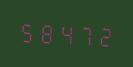eight: (37, 18, 55, 46)
five: (18, 17, 36, 45)
four: (56, 19, 74, 47)
seven: (75, 20, 93, 48)
two: (94, 21, 112, 49)
